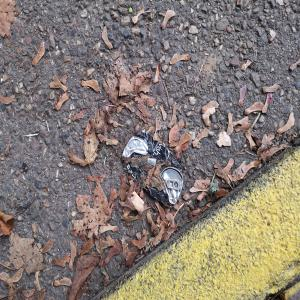Can: (121, 128, 190, 213)
